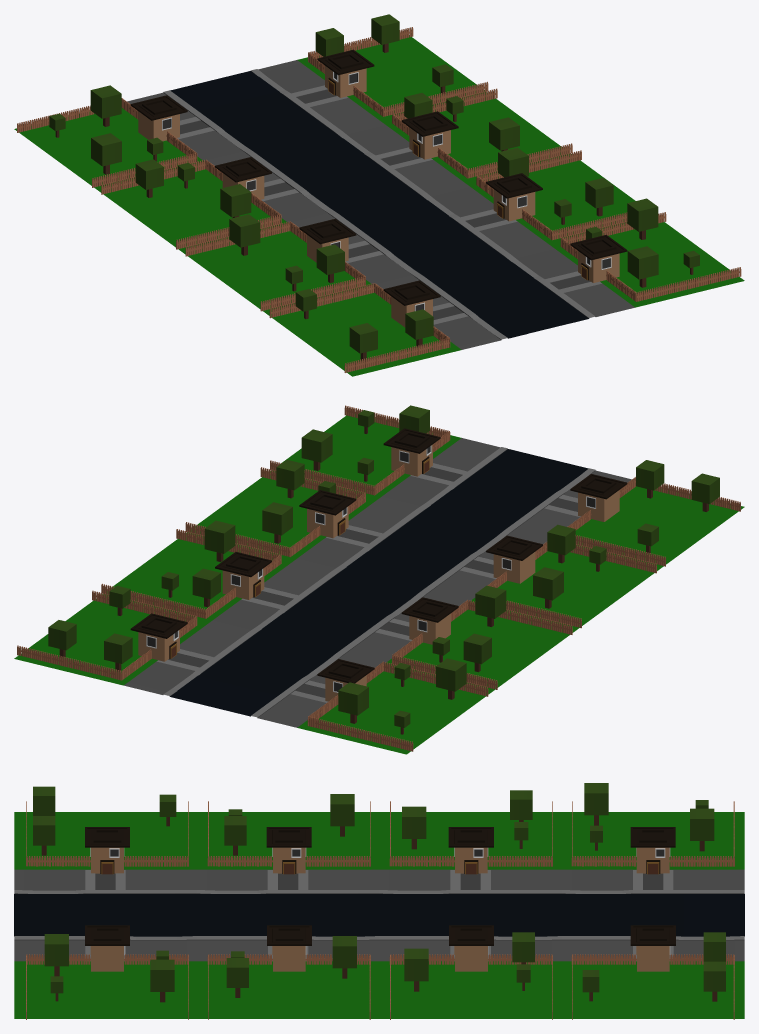
The model's file is map.glb.
The picture shows the model from 3 angles, top to bottom: view 1: azimuth 30°, elevation 25°; view 2: azimuth 150°, elevation 25°; view 3: azimuth 270°, elevation 25°; orthographic projection. The views are drawn at different scales.
Parts seen in each view (by area): view 1: Road, plane8, Plane1, plane4, plane7, plane6, plane3, Plane2, plane5, fens5, fens4, fens6 (+29 smaller); view 2: Road, plane5, plane8, Plane1, Plane2, plane4, plane3, plane7, plane6, fens1, fens8, fens2 (+29 smaller); view 3: Road, plane3, Plane2, Plane1, plane8, plane4, plane7, plane5, plane6, fens8, fens6, fens7 (+39 smaller).
Boxes of the visible parts, box(x1,y1,x2,y2) form: Road: box(170, 71, 589, 338); plane8: box(268, 276, 526, 376); Plane1: box(250, 35, 487, 132); plane4: box(504, 222, 744, 322); plane7: box(183, 214, 422, 314); plane6: box(99, 152, 338, 252); plane3: box(420, 159, 635, 256); Plane2: box(335, 97, 571, 194); plane5: box(14, 90, 253, 190); fens5: box(269, 283, 450, 372); fens4: box(560, 212, 741, 301); fens6: box(185, 221, 365, 311); Road: box(170, 449, 588, 716); plane5: box(250, 654, 490, 754); plane8: box(505, 468, 744, 568); Plane1: box(14, 599, 254, 696); Plane2: box(102, 537, 338, 634); plane4: box(270, 414, 507, 510); plane3: box(186, 475, 423, 572); plane7: box(420, 530, 659, 630); plane6: box(336, 592, 575, 692); fens1: box(17, 590, 197, 680); fens8: box(307, 661, 488, 751); fens2: box(101, 529, 281, 618); Road: box(14, 894, 744, 936); plane3: box(197, 936, 379, 1018); Plane2: box(379, 936, 561, 1018); Plane1: box(562, 936, 744, 1018); plane8: box(14, 812, 196, 893); plane4: box(14, 936, 196, 1018); plane7: box(196, 812, 379, 893); plane5: box(562, 812, 744, 893); plane6: box(379, 812, 561, 893); fens8: box(571, 801, 734, 866); fens6: box(207, 801, 370, 866); fens7: box(389, 801, 552, 866).
Size of the model in its own units: 41.59 by 3.84 by 61.62.
2 materials, 2 textured.
